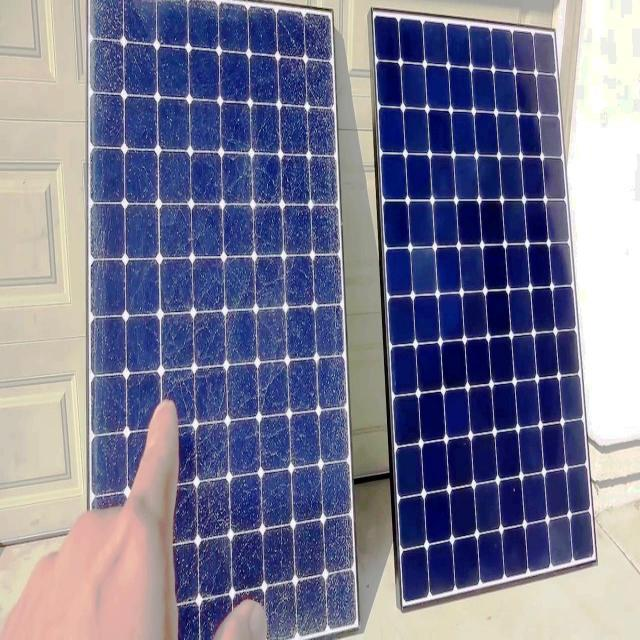faulty: (88, 1, 360, 640)
no faulty: (371, 10, 598, 608)
